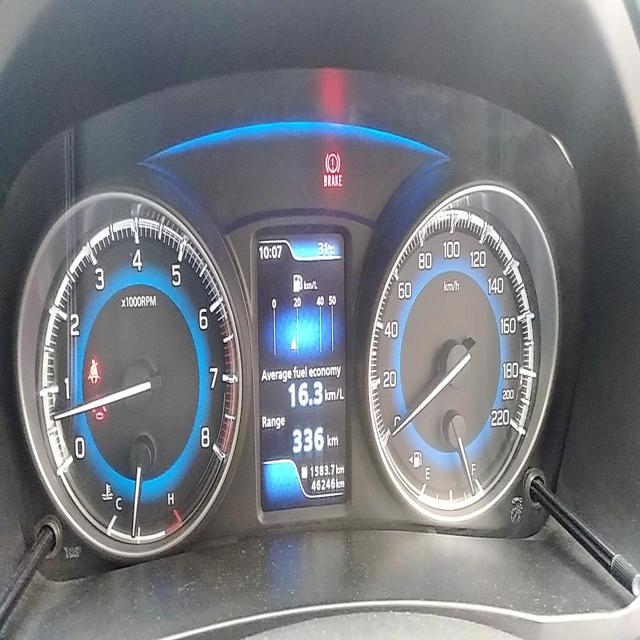odometer: (311, 477, 335, 494)
